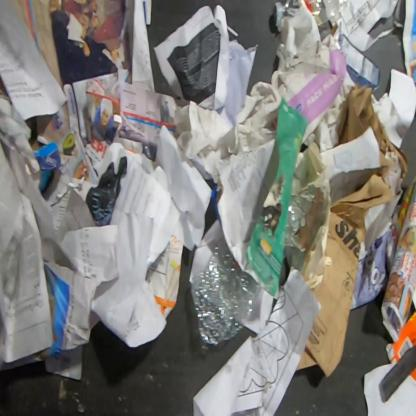cardboard: (328, 22, 381, 95), (144, 234, 184, 320)
rigid_plastic: (192, 237, 263, 346), (285, 184, 327, 254), (274, 0, 350, 27)
